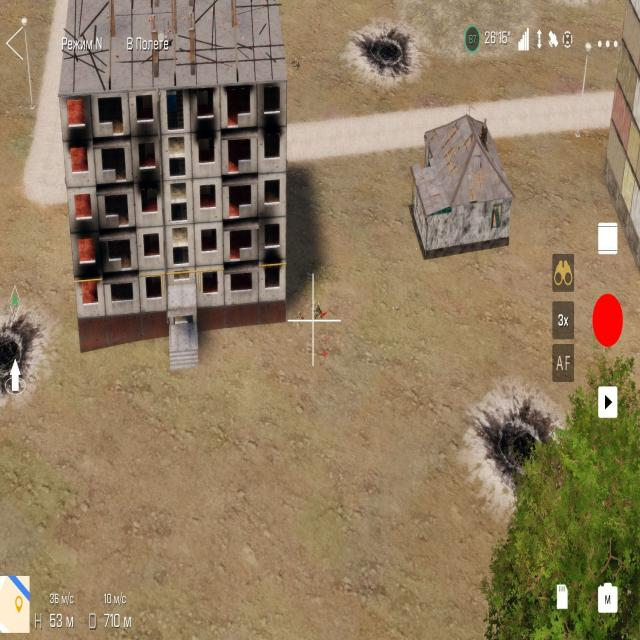fortification: (46, 0, 300, 345), (402, 104, 527, 286), (589, 0, 640, 273)
infantry: (308, 298, 328, 328), (288, 48, 305, 81)
